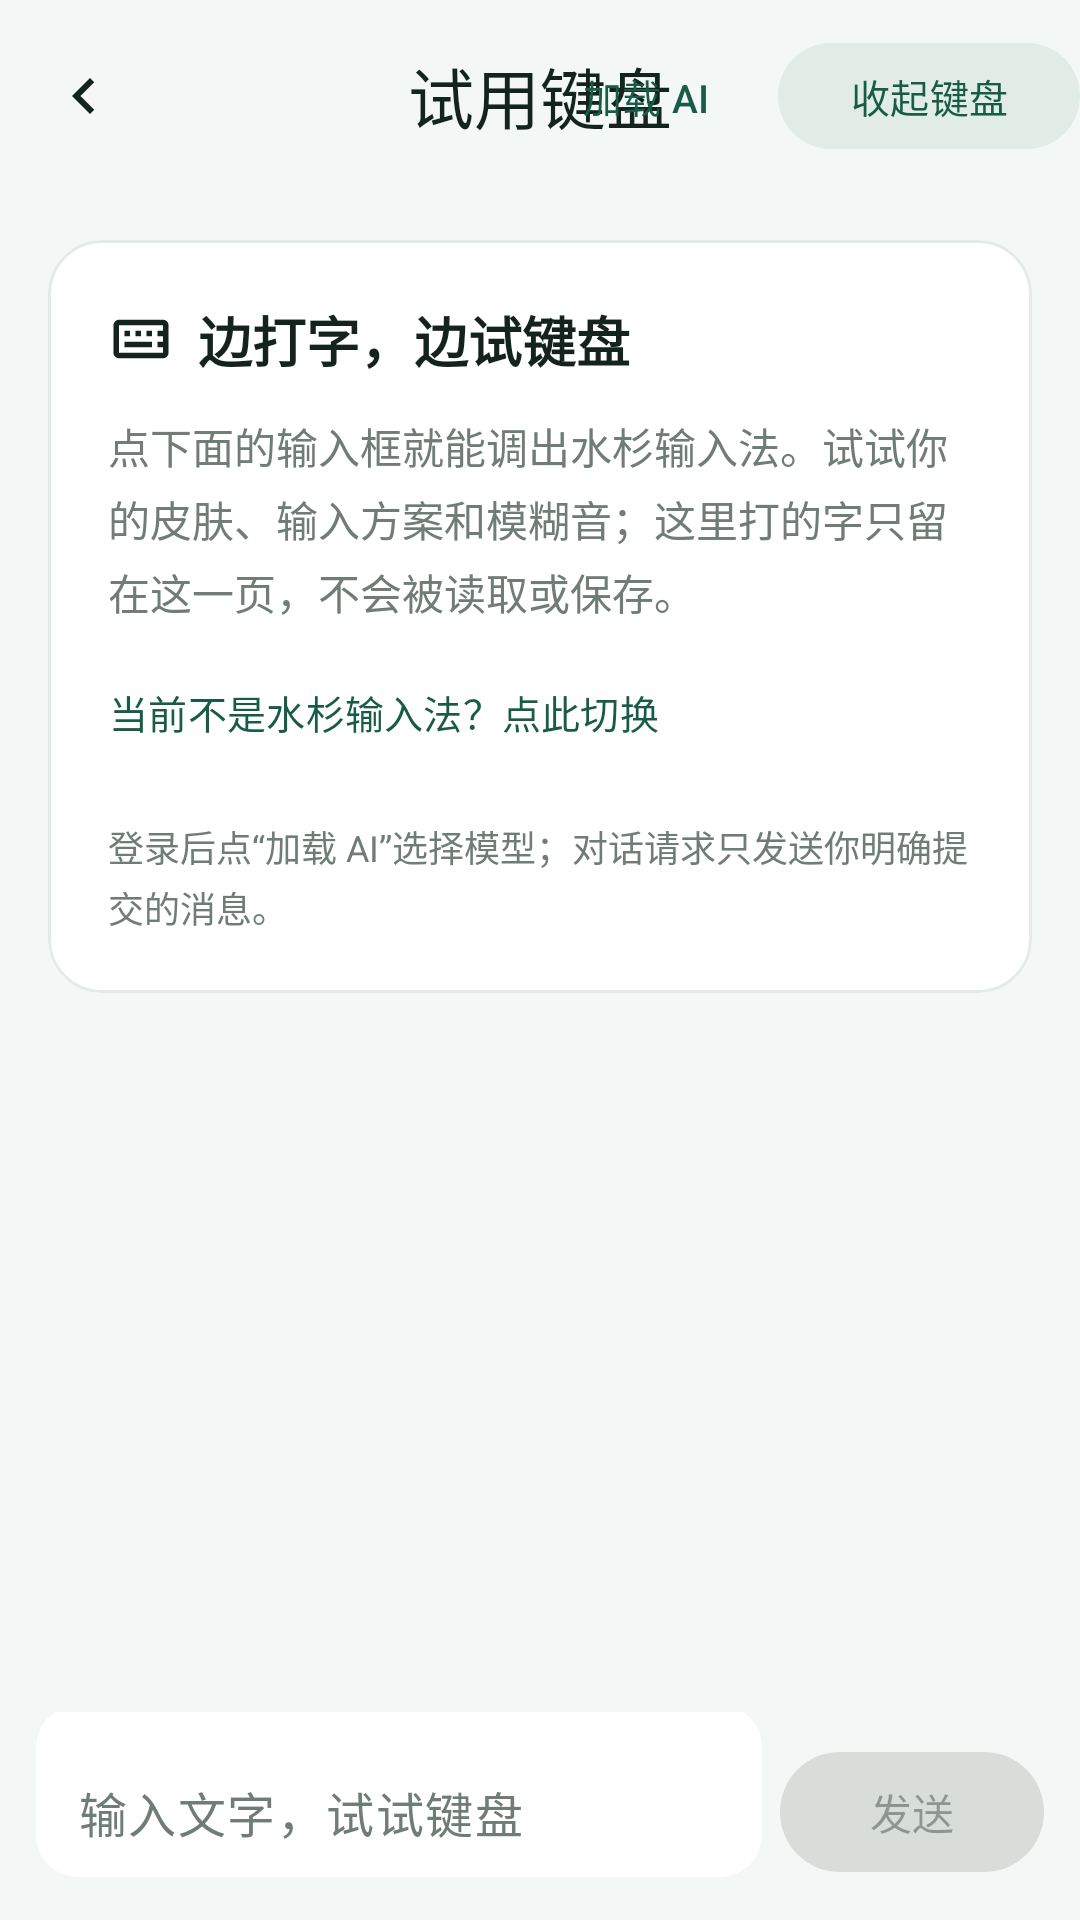

Point at icon controls on the screen. Image size 1080x1920, points as point (x, y).
keyboard: point (141, 339)
